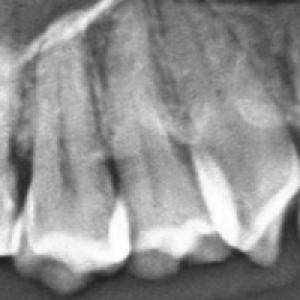tooth: (160, 10, 300, 262), (16, 15, 135, 298), (104, 21, 232, 279)
